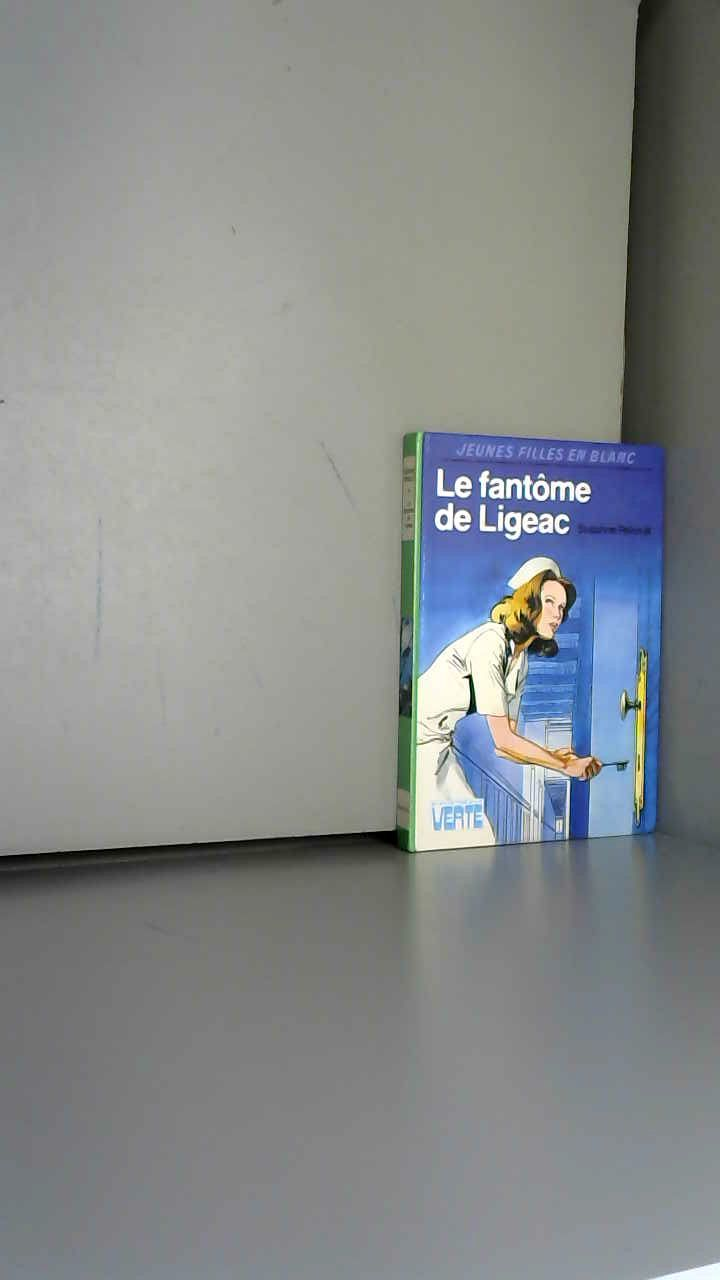book: (370, 400, 718, 927)
